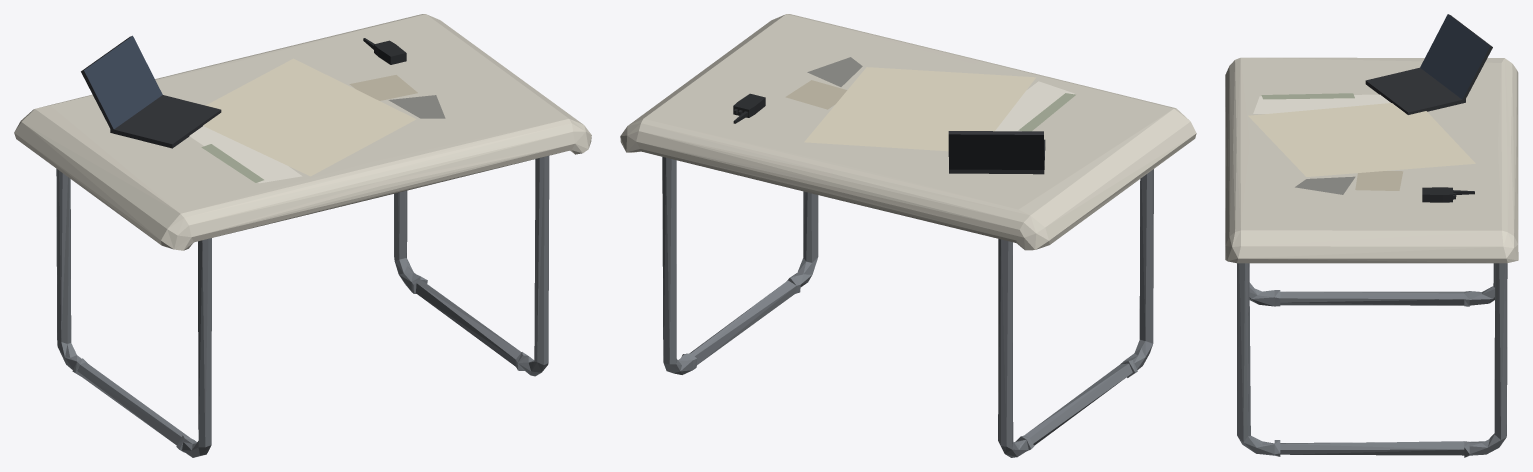
File: table_with_laptop.glb
3 renders of one model, left to right at view 1: azimuth 30°, elevation 25°; view 2: azimuth 150°, elevation 25°; view 3: azimuth 270°, elevation 25°, orthographic. The views are drawn at different scales.
Parts seen in each view (by area): view 1: TableWithLaptop; view 2: TableWithLaptop; view 3: TableWithLaptop.
Boxes of the visible parts, x1=… form: TableWithLaptop: x1=14, y1=14, x2=591, y2=457; TableWithLaptop: x1=620, y1=14, x2=1196, y2=457; TableWithLaptop: x1=1225, y1=14, x2=1518, y2=457.
Bounding box in the file's own units: 1.28 × 0.8981 × 0.8277.
